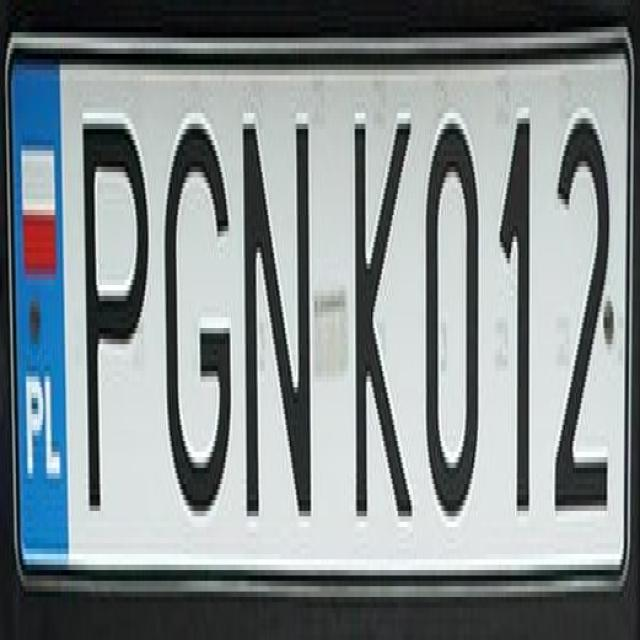pl_license_plate: (7, 38, 628, 576)
